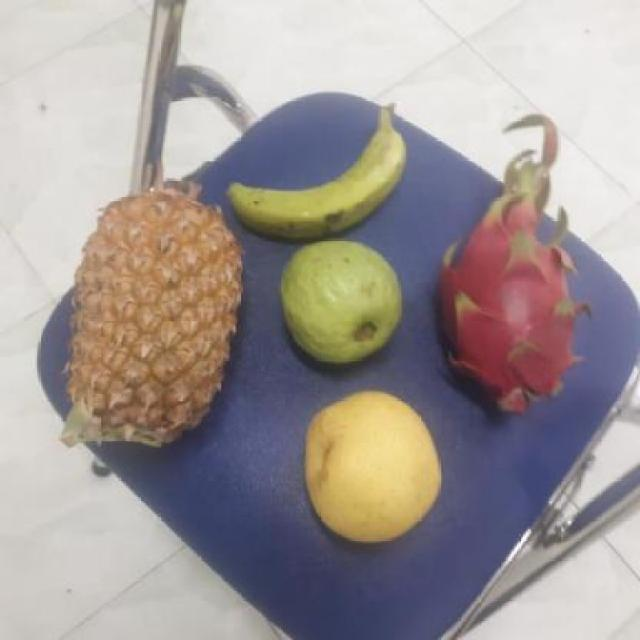banana: (223, 111, 408, 243)
dragon fruit: (429, 196, 586, 419)
guava: (275, 243, 402, 363)
pear: (298, 388, 445, 544)
pineapple: (52, 202, 240, 447)
